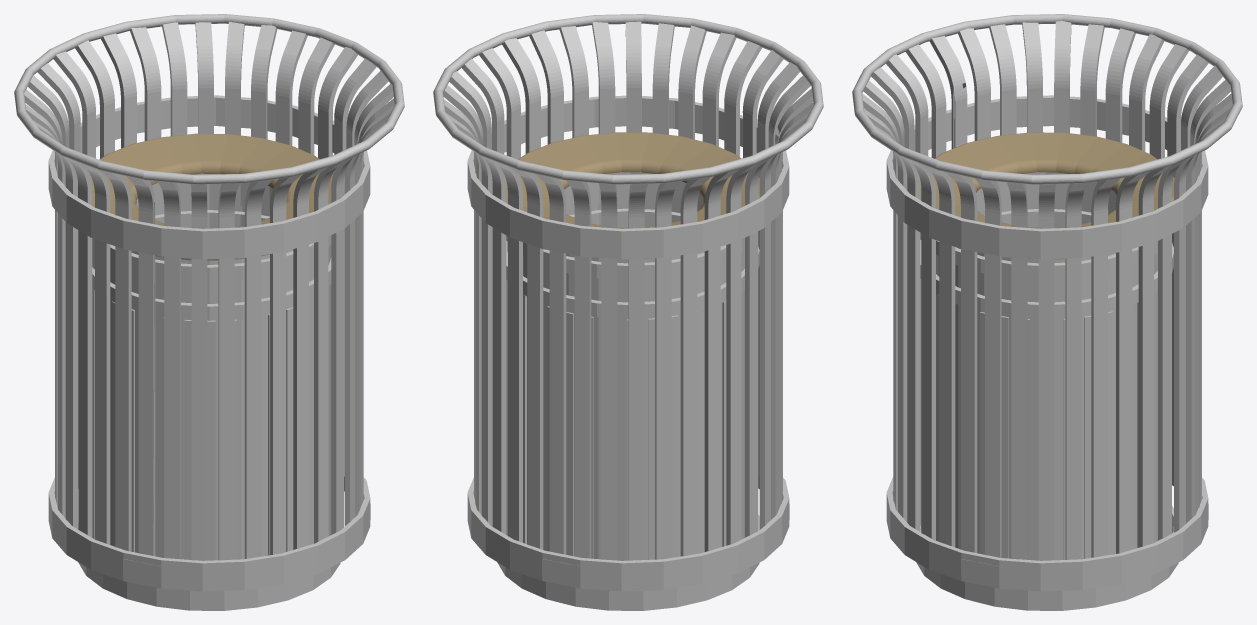
3 renders of one model, left to right at view 1: azimuth 30°, elevation 25°; view 2: azimuth 150°, elevation 25°; view 3: azimuth 270°, elevation 25°, orthographic.
Visible parts, largest first — view 1: mesh81_mesh81-geometry, mesh103_mesh103-geometry, mesh106_mesh106-geometry, mesh112_mesh112-geometry, mesh1_mesh1-geometry, mesh126_mesh126-geometry, mesh108_mesh108-geometry, mesh131_mesh131-geometry, mesh137_mesh137-geometry, mesh130_mesh130-geometry, mesh102_mesh102-geometry, mesh110_mesh110-geometry (+35 smaller); view 2: mesh103_mesh103-geometry, mesh81_mesh81-geometry, mesh106_mesh106-geometry, mesh112_mesh112-geometry, mesh1_mesh1-geometry, mesh139_mesh139-geometry, mesh113_mesh113-geometry, mesh121_mesh121-geometry, mesh129_mesh129-geometry, mesh133_mesh133-geometry, mesh120_mesh120-geometry, mesh122_mesh122-geometry (+35 smaller); view 3: mesh81_mesh81-geometry, mesh103_mesh103-geometry, mesh106_mesh106-geometry, mesh112_mesh112-geometry, mesh1_mesh1-geometry, mesh119_mesh119-geometry, mesh128_mesh128-geometry, mesh115_mesh115-geometry, mesh125_mesh125-geometry, mesh127_mesh127-geometry, mesh117_mesh117-geometry, mesh123_mesh123-geometry (+35 smaller).
Part boxes in pixels (box(x1,y1,x2,y2)): mesh81_mesh81-geometry: box(92, 173, 331, 560); mesh103_mesh103-geometry: box(28, 75, 370, 259); mesh106_mesh106-geometry: box(48, 476, 370, 591); mesh112_mesh112-geometry: box(14, 14, 404, 184); mesh1_mesh1-geometry: box(78, 133, 333, 260); mesh126_mesh126-geometry: box(244, 179, 272, 558); mesh108_mesh108-geometry: box(126, 176, 155, 556); mesh131_mesh131-geometry: box(270, 174, 301, 555); mesh137_mesh137-geometry: box(158, 181, 180, 559); mesh130_mesh130-geometry: box(218, 183, 239, 560); mesh102_mesh102-geometry: box(99, 170, 131, 551); mesh110_mesh110-geometry: box(191, 184, 207, 560); mesh103_mesh103-geometry: box(467, 95, 789, 559); mesh81_mesh81-geometry: box(506, 172, 759, 560); mesh106_mesh106-geometry: box(467, 475, 789, 591); mesh112_mesh112-geometry: box(433, 14, 823, 184); mesh1_mesh1-geometry: box(505, 132, 759, 258); mesh139_mesh139-geometry: box(566, 180, 591, 558); mesh113_mesh113-geometry: box(680, 177, 710, 556); mesh121_mesh121-geometry: box(535, 174, 566, 554); mesh129_mesh129-geometry: box(628, 184, 647, 560); mesh133_mesh133-geometry: box(704, 169, 739, 551); mesh120_mesh120-geometry: box(599, 183, 617, 560); mesh122_mesh122-geometry: box(508, 166, 543, 549); mesh81_mesh81-geometry: box(920, 172, 1173, 560); mesh103_mesh103-geometry: box(886, 44, 1208, 259); mesh106_mesh106-geometry: box(886, 471, 1208, 591); mesh112_mesh112-geometry: box(852, 14, 1242, 184); mesh1_mesh1-geometry: box(920, 132, 1174, 259); mesh119_mesh119-geometry: box(1091, 178, 1120, 557); mesh128_mesh128-geometry: box(975, 178, 1001, 557); mesh115_mesh115-geometry: box(1065, 182, 1088, 559); mesh125_mesh125-geometry: box(945, 172, 977, 552); mesh127_mesh127-geometry: box(1116, 171, 1149, 553); mesh117_mesh117-geometry: box(1007, 182, 1027, 559); mesh123_mesh123-geometry: box(1038, 184, 1055, 560).
Size of the model in its own units: 0.5203 by 0.6771 by 0.5203.
